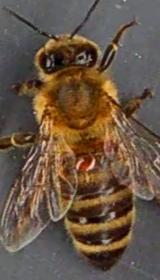varroa_mite: (70, 152, 100, 171)
